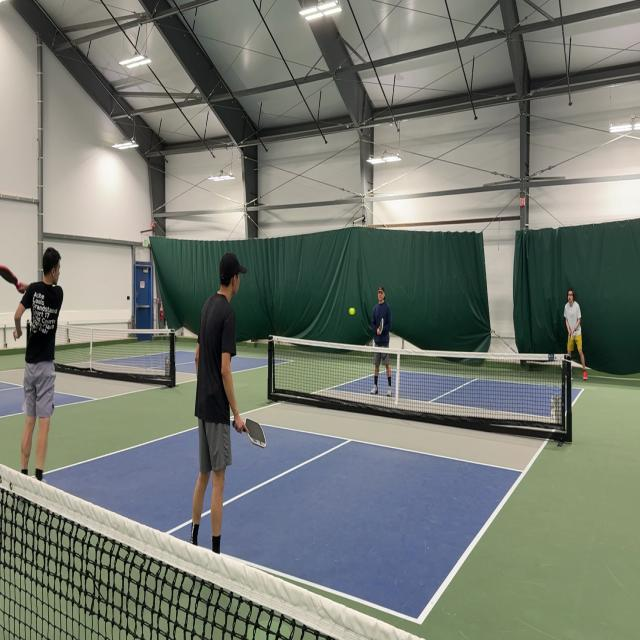ball: (348, 307, 356, 316)
